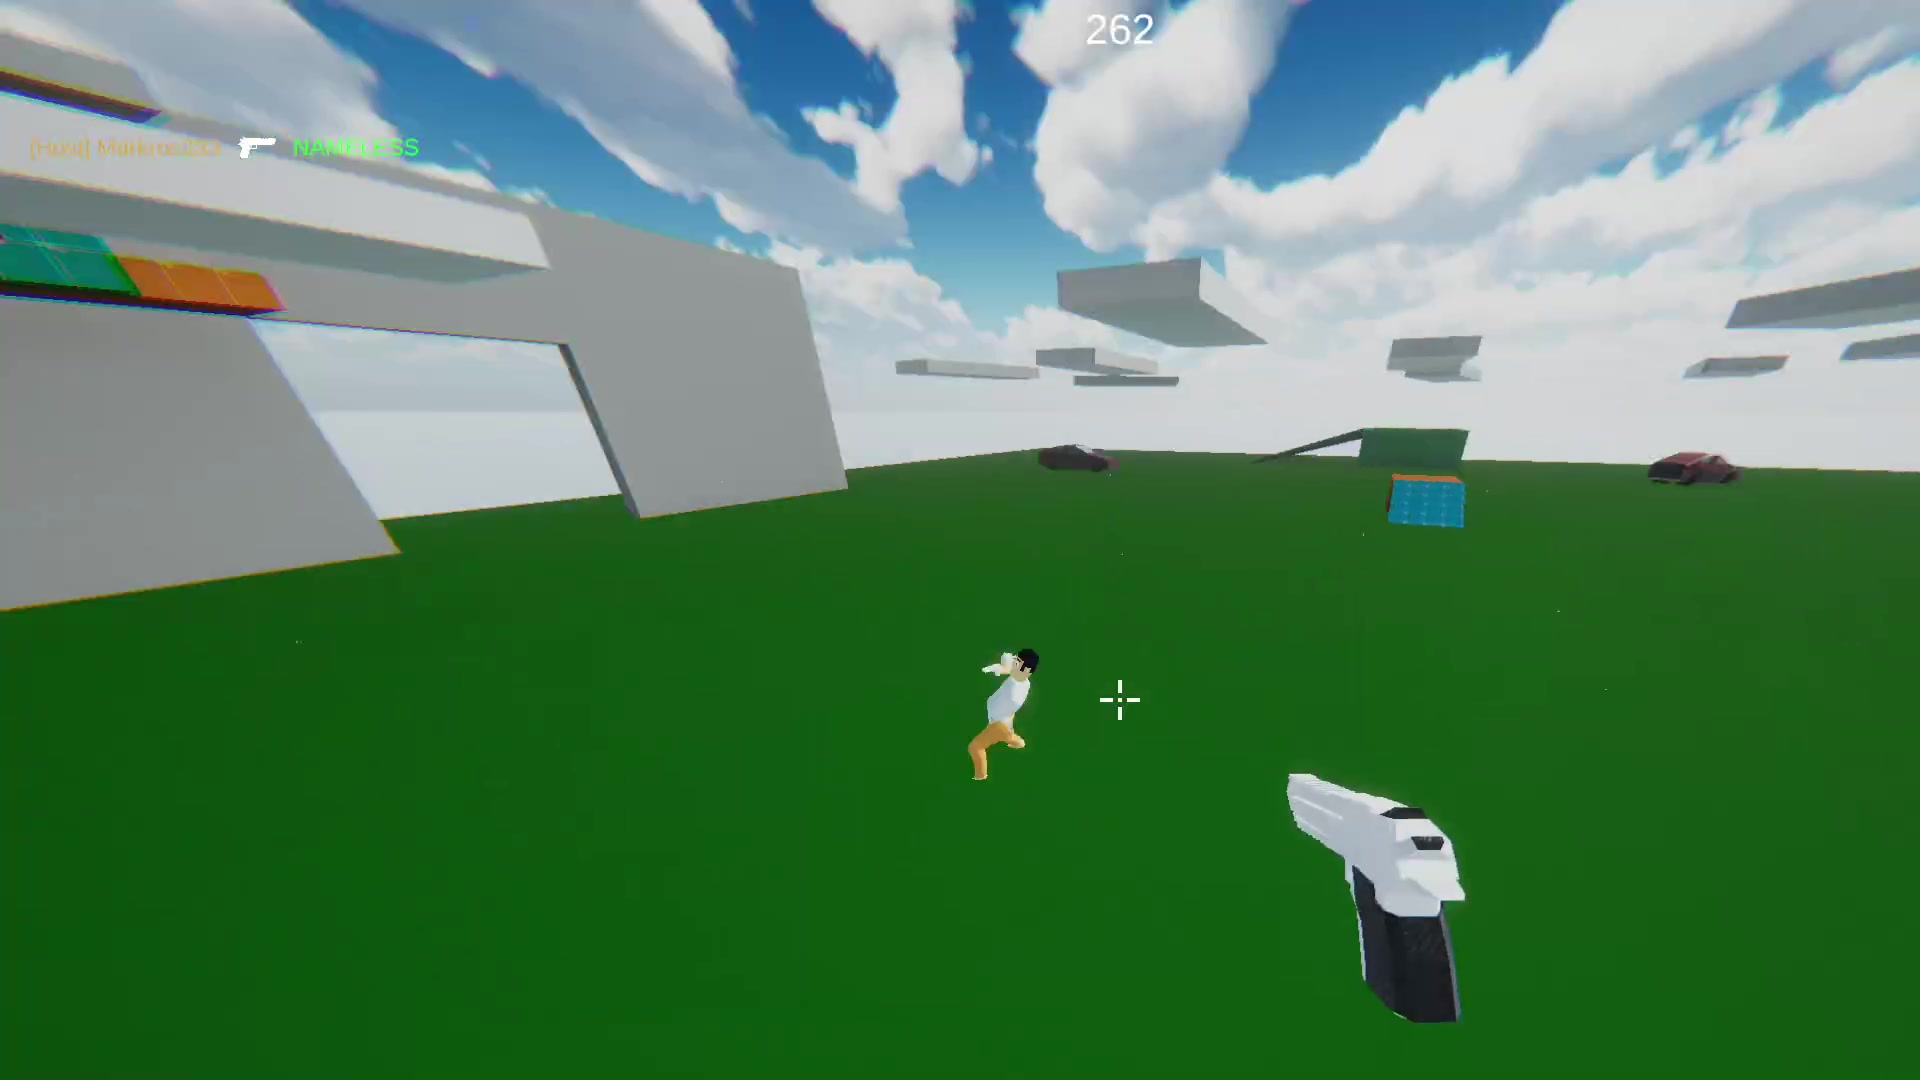human: (979, 646, 1031, 776)
